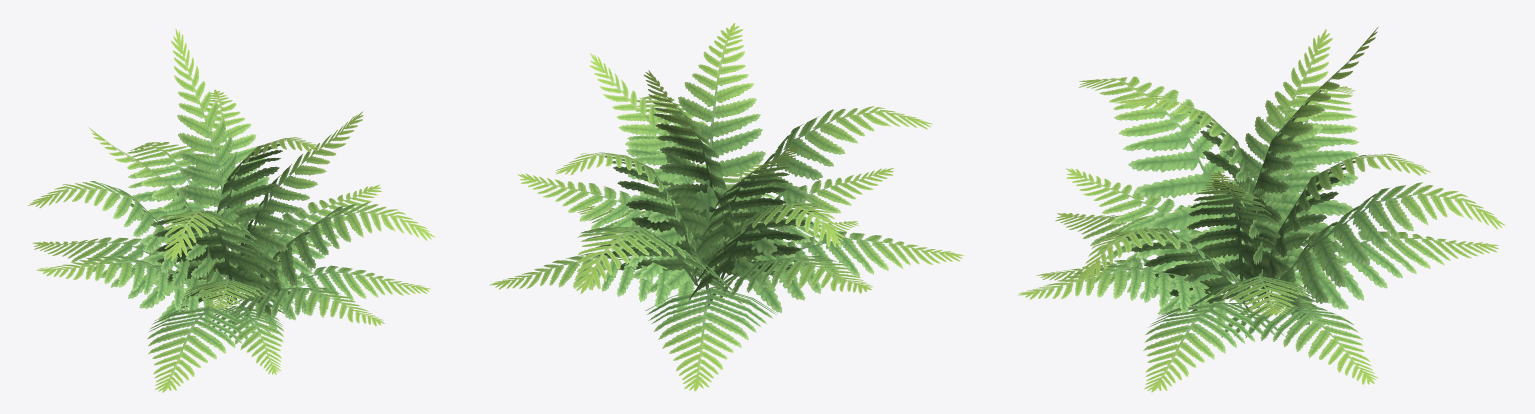
Rendered from SM_ENV_plant_ancient_17_01.fbx.
The picture shows the model from 3 angles, left to right: view 1: azimuth 30°, elevation 25°; view 2: azimuth 150°, elevation 25°; view 3: azimuth 270°, elevation 25°; orthographic projection. The views are drawn at different scales.
Parts seen in each view (by area): view 1: SM_ENV_plant_ancient_17_01_LOD0; view 2: SM_ENV_plant_ancient_17_01_LOD0; view 3: SM_ENV_plant_ancient_17_01_LOD0.
Boxes of the visible parts, x1,y1,x2,y2 form: SM_ENV_plant_ancient_17_01_LOD0: [28, 28, 435, 392]; SM_ENV_plant_ancient_17_01_LOD0: [489, 23, 963, 391]; SM_ENV_plant_ancient_17_01_LOD0: [1017, 27, 1505, 392].
Bounding box in the file's own units: 196 × 147 × 211.
